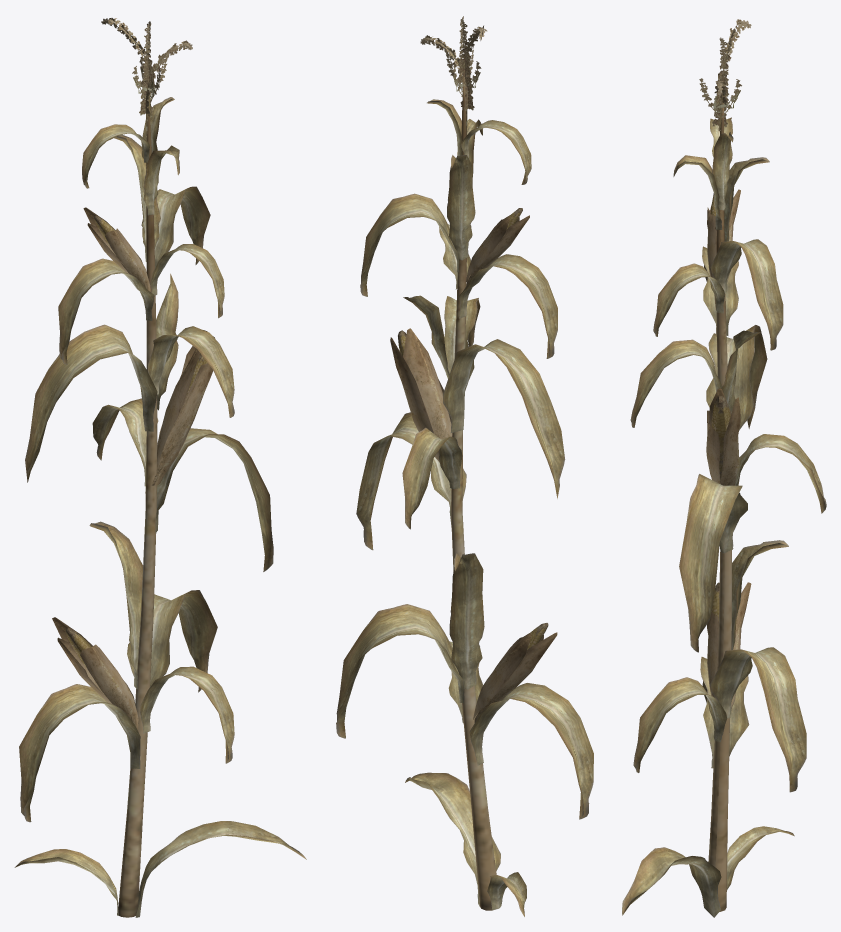
The model's file is SM_Corn02.fbx.
The picture shows the model from 3 angles, left to right: view 1: azimuth 30°, elevation 25°; view 2: azimuth 150°, elevation 25°; view 3: azimuth 270°, elevation 25°; orthographic projection.
Visible parts, largest first — view 1: SM_Corn02.mo; view 2: SM_Corn02.mo; view 3: SM_Corn02.mo.
Boxes of the visible parts, x1=… form: SM_Corn02.mo: x1=14, y1=18, x2=306, y2=917; SM_Corn02.mo: x1=336, y1=16, x2=593, y2=916; SM_Corn02.mo: x1=622, y1=19, x2=826, y2=917.
Size of the model in its own units: 66.51 by 240 by 49.74.
